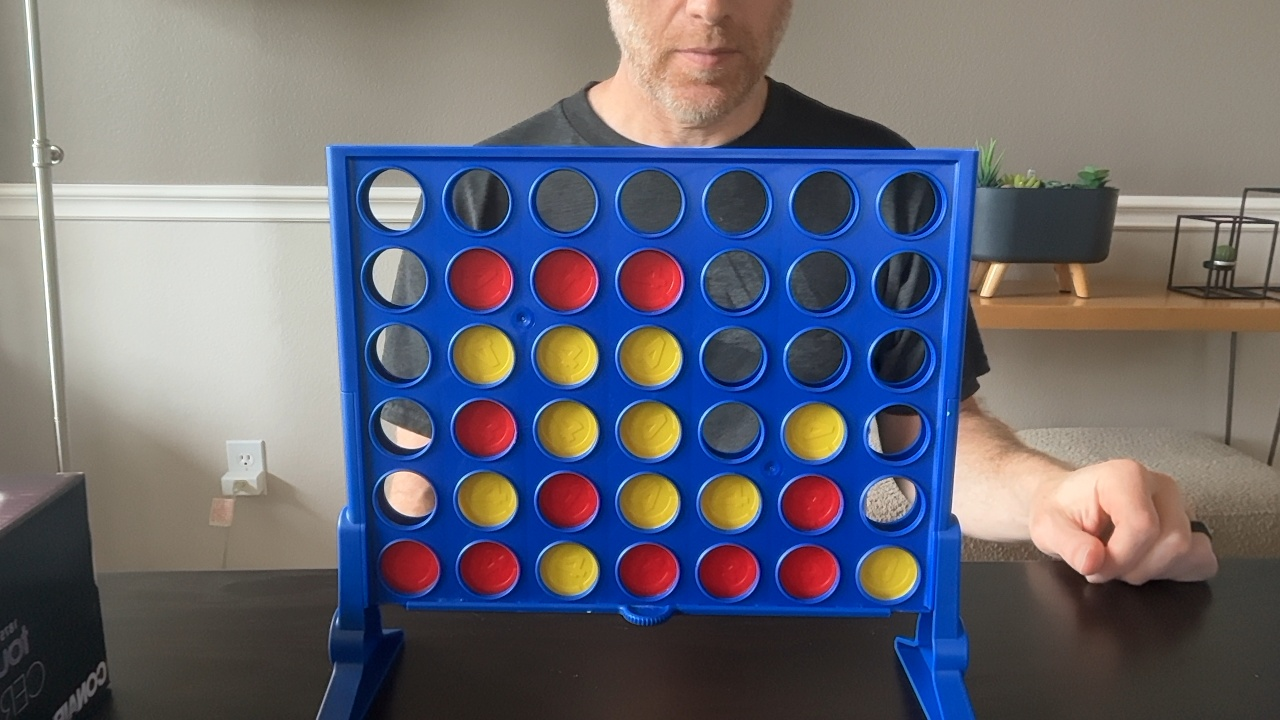red piece: (448, 248, 513, 311), (619, 249, 683, 312), (534, 248, 598, 311), (453, 399, 516, 457), (537, 472, 599, 529), (781, 475, 842, 531), (698, 544, 759, 600), (618, 543, 678, 599), (778, 545, 838, 600), (459, 541, 518, 596), (380, 540, 439, 594)
yellow piece: (535, 325, 598, 386), (618, 326, 682, 386), (452, 325, 514, 385), (537, 400, 598, 459), (784, 403, 846, 461), (619, 401, 680, 459), (700, 474, 761, 531), (457, 471, 517, 528), (619, 473, 679, 529), (539, 542, 599, 597), (859, 547, 918, 601)
